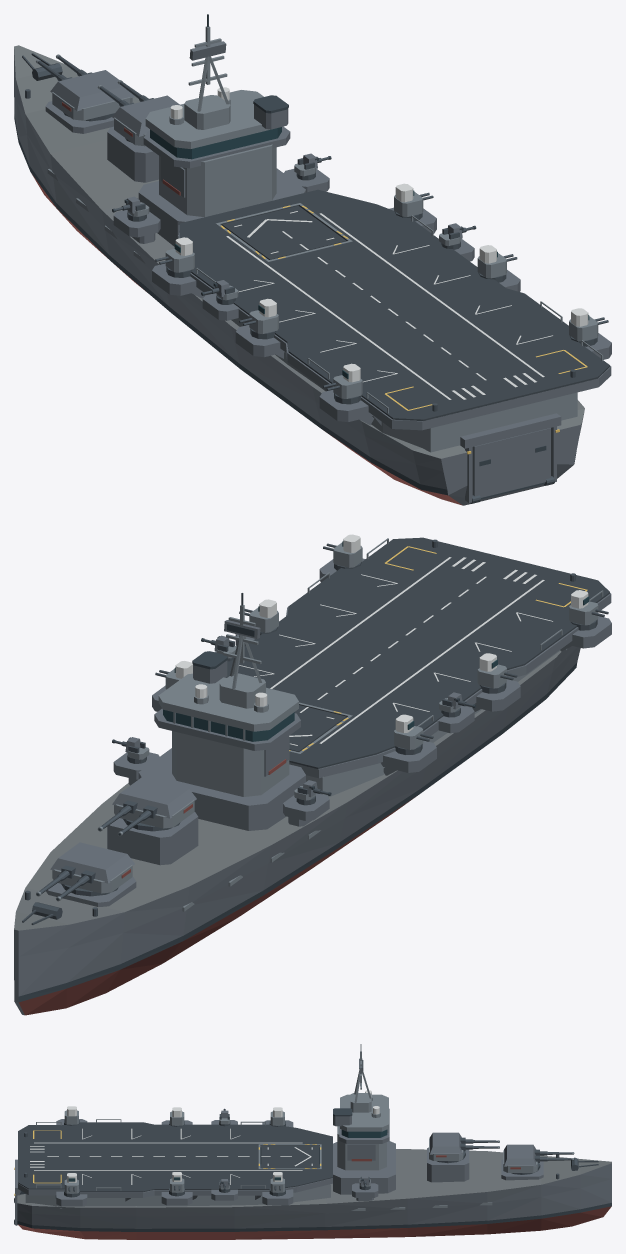
The model's file is EnemyHybridBoss.fbx.
3 views of the same model, one above another, from view 1: azimuth 30°, elevation 25°; view 2: azimuth 150°, elevation 25°; view 3: azimuth 270°, elevation 25° (orthographic). The views are drawn at different scales.
Parts seen in each view (by area): view 1: FlightDeck_Mesh, Hull_Mesh, BridgeAssembly_Mesh, SternGatePivot_Mesh, DroneElevatorPivot_Mesh, MainGun_01_Mesh, SternWellDeck_Mesh, MainGun_02_Mesh, AA_Port_01_Mesh, AA_Port_02_Mesh, AA_Port_03_Mesh, AA_Starboard_01_Mesh (+3 smaller); view 2: FlightDeck_Mesh, Hull_Mesh, BridgeAssembly_Mesh, MainGun_01_Mesh, MainGun_02_Mesh, DroneElevatorPivot_Mesh, AA_Port_02_Mesh, AA_Port_01_Mesh, AA_Port_03_Mesh, AA_Starboard_03_Mesh, AA_Starboard_02_Mesh, MainGun_Elevation_01_Mesh (+1 smaller); view 3: Hull_Mesh, FlightDeck_Mesh, BridgeAssembly_Mesh, DroneElevatorPivot_Mesh, MainGun_01_Mesh, MainGun_02_Mesh, DroneElevatorShaft_Mesh, MainGun_Elevation_02_Mesh, MainGun_Elevation_01_Mesh.
Boxes of the visible parts, x1,y1,x2,y2 form: FlightDeck_Mesh: [113, 169, 611, 452]; Hull_Mesh: [14, 45, 584, 505]; BridgeAssembly_Mesh: [138, 14, 305, 246]; SternGatePivot_Mesh: [472, 428, 550, 497]; DroneElevatorPivot_Mesh: [222, 206, 345, 259]; MainGun_01_Mesh: [50, 70, 134, 120]; SternWellDeck_Mesh: [460, 413, 561, 503]; MainGun_02_Mesh: [112, 95, 179, 146]; AA_Port_01_Mesh: [165, 237, 194, 272]; AA_Port_02_Mesh: [249, 298, 278, 333]; AA_Port_03_Mesh: [333, 363, 362, 398]; AA_Starboard_01_Mesh: [394, 183, 423, 216]; FlightDeck_Mesh: [113, 537, 611, 826]; Hull_Mesh: [14, 539, 580, 1015]; BridgeAssembly_Mesh: [138, 593, 305, 830]; MainGun_01_Mesh: [50, 842, 134, 893]; MainGun_02_Mesh: [112, 777, 196, 828]; DroneElevatorPivot_Mesh: [289, 705, 346, 751]; AA_Port_02_Mesh: [477, 653, 506, 688]; AA_Port_01_Mesh: [394, 714, 423, 749]; AA_Port_03_Mesh: [569, 590, 598, 625]; AA_Starboard_03_Mesh: [333, 534, 362, 567]; AA_Starboard_02_Mesh: [249, 599, 278, 632]; MainGun_Elevation_01_Mesh: [36, 865, 95, 901]; Hull_Mesh: [17, 1132, 611, 1239]; FlightDeck_Mesh: [18, 1119, 378, 1208]; BridgeAssembly_Mesh: [333, 1044, 395, 1194]; DroneElevatorPivot_Mesh: [261, 1145, 318, 1168]; MainGun_01_Mesh: [503, 1144, 537, 1172]; MainGun_02_Mesh: [429, 1132, 463, 1160]; DroneElevatorShaft_Mesh: [258, 1144, 321, 1169]; MainGun_Elevation_02_Mesh: [460, 1137, 499, 1151]; MainGun_Elevation_01_Mesh: [534, 1149, 574, 1162].
Bounding box in the file's own units: 524 × 512 × 1609.
